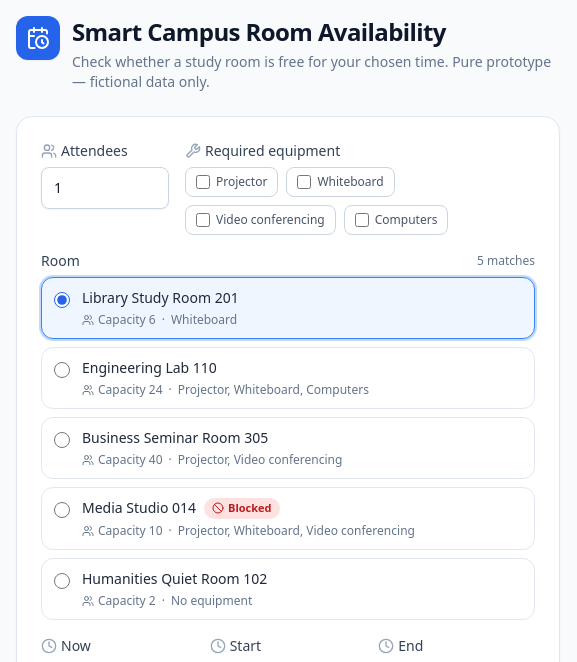
Test: F4 – empty state when no rooms match › shows the empty state for impossible equipment and Clear filters brings rooms back
Step 1. Click the checkbox labelled "Computers" → (362, 220), box [355,213,369,227]
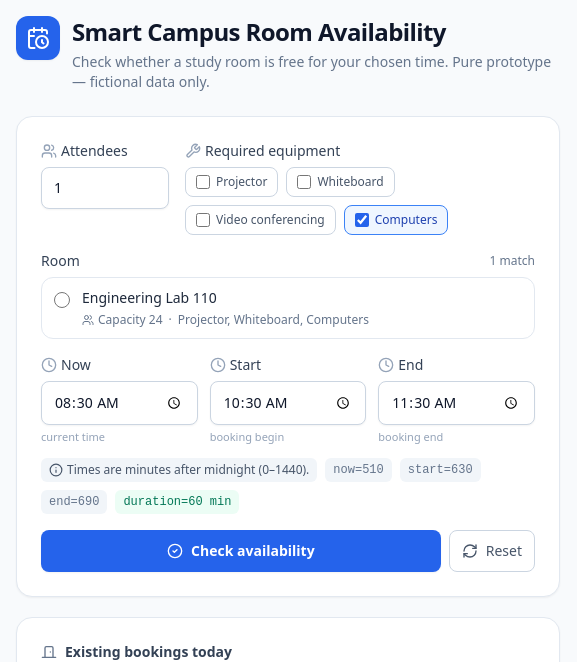
Step 2. Click the checkbox labelled "Video conferencing" → (203, 220), box [196,213,210,227]
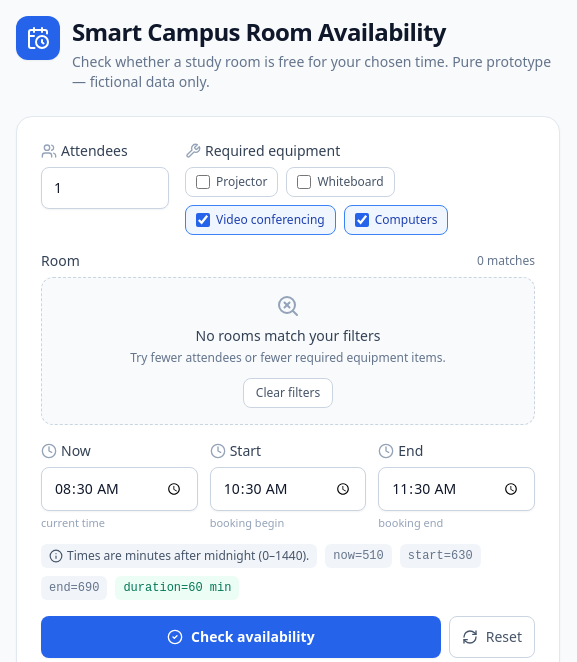
Expected: the text "No rooms match your filters" is shown, [196,326,380,345]
Expected: the text "Try fewer attendees or fewer required equipment items." is shown, [130,349,446,366]
Step 3. Click the button "Clear filters" → (288, 393), box [243,378,333,408]
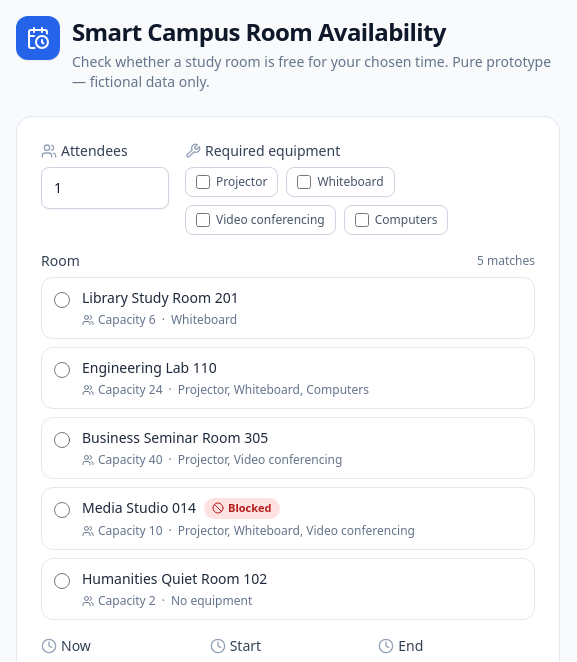
Expected: the number field labelled "Attendees" holds "1", [41,167,169,209]
Expected: the checkbox labelled "Computers" is not checked, [355,213,369,227]
Expected: the text "No rooms match your filters" is gone
